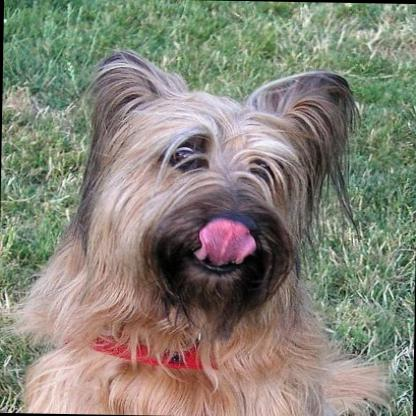briard: (8, 46, 398, 416)
